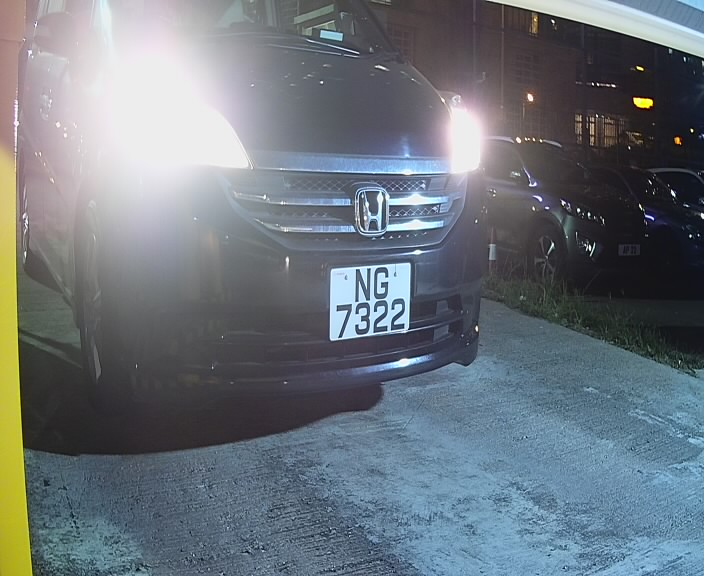Car: (2, 2, 549, 460)
License Plate: (323, 254, 425, 356)
